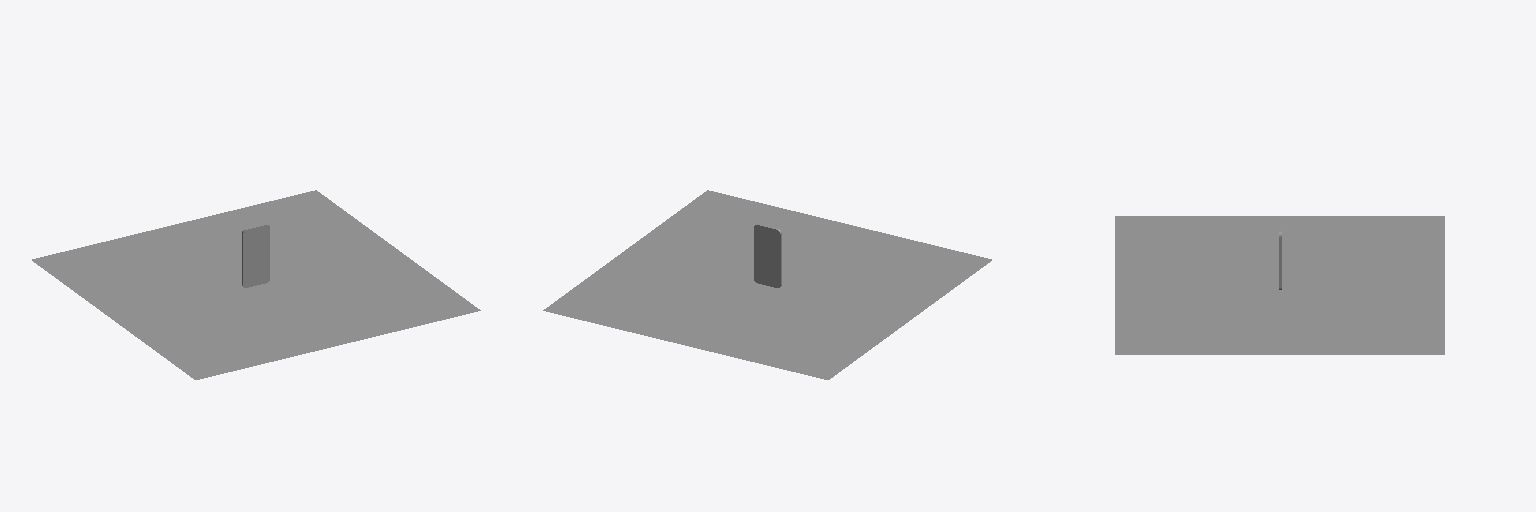
File: iPhone.obj
3 views of the same model, side by side, from view 1: azimuth 30°, elevation 25°; view 2: azimuth 150°, elevation 25°; view 3: azimuth 270°, elevation 25° (orthographic).
Visible parts, largest first — view 1: Plane, Cube; view 2: Plane, Cube; view 3: Plane.
Boxes of the visible parts, x1=… form: Plane: x1=32, y1=190, x2=480, y2=379; Cube: x1=242, y1=224, x2=269, y2=287; Plane: x1=543, y1=190, x2=991, y2=379; Cube: x1=754, y1=224, x2=781, y2=287; Plane: x1=1115, y1=216, x2=1444, y2=354.
Bounding box in the file's own units: 40 × 7.83 × 40.